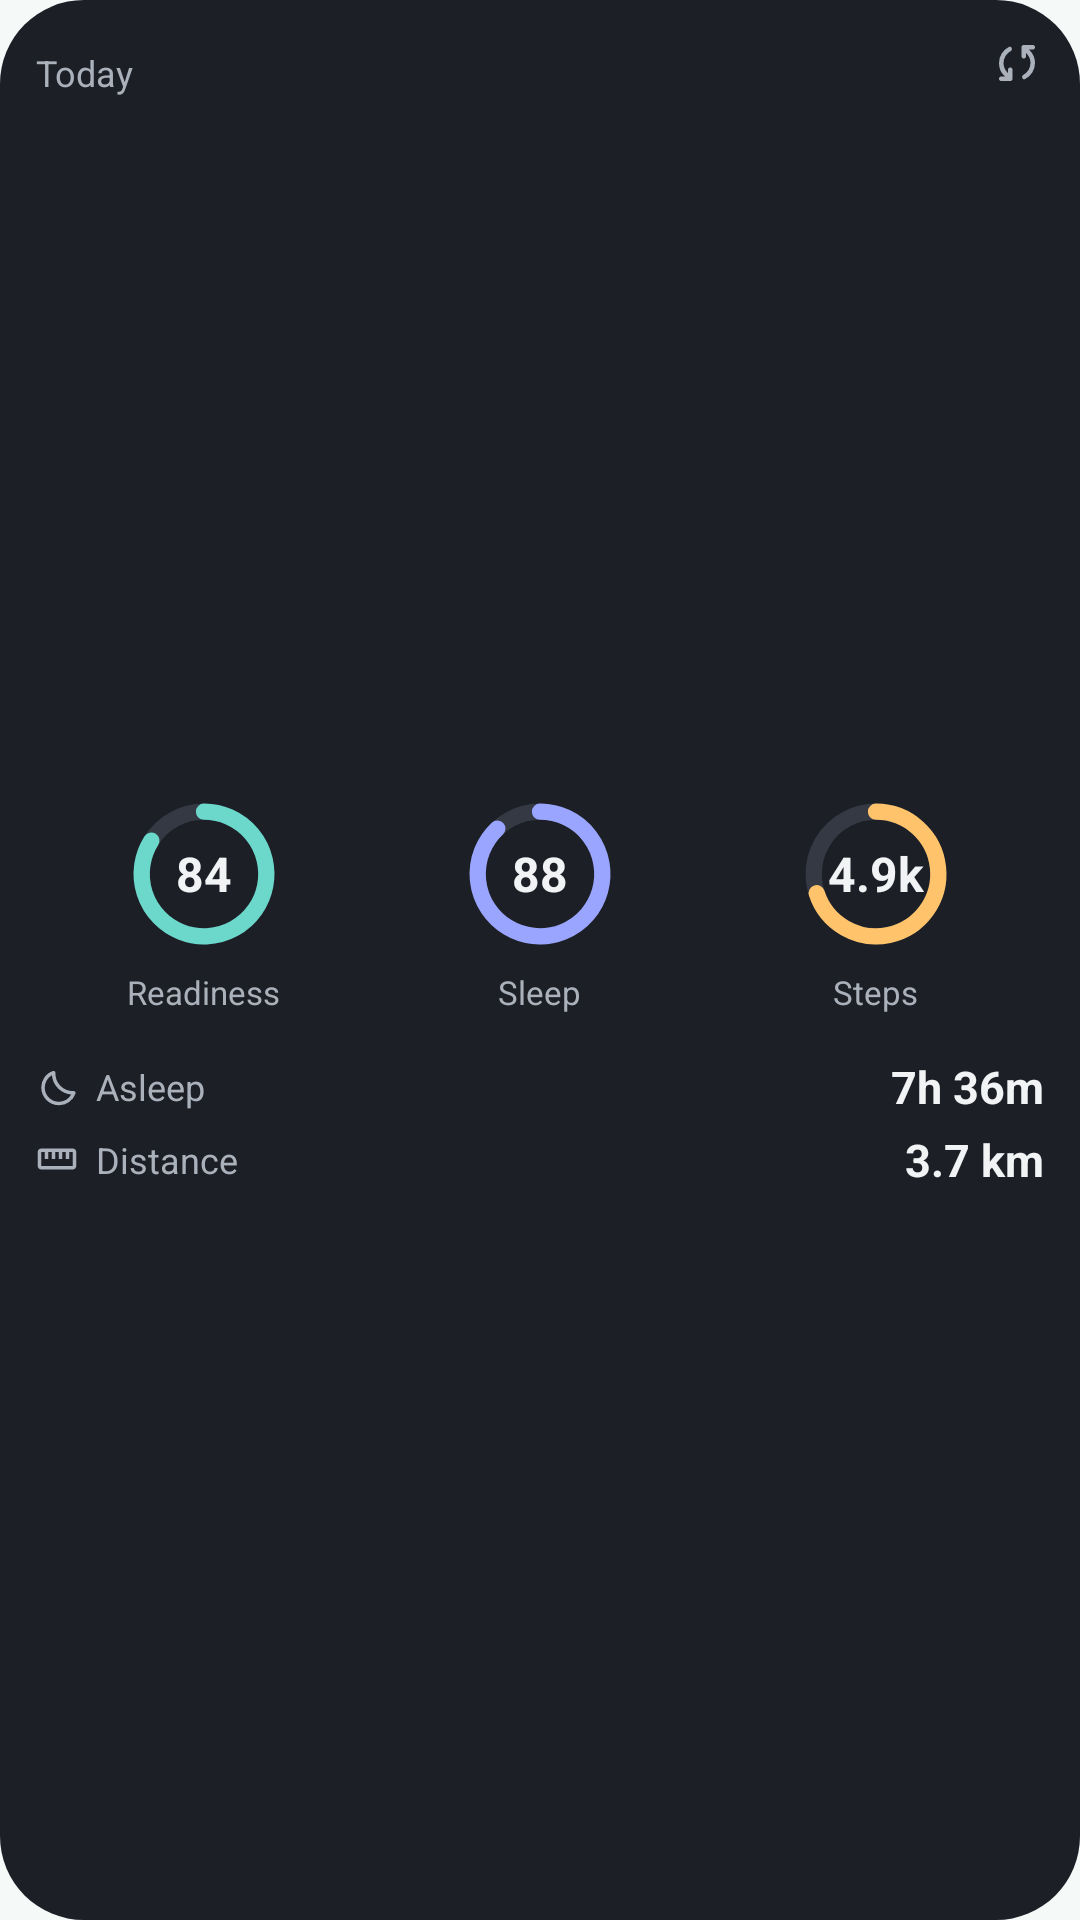

Point at icon controls on the screen. Image size 1080px×1920px, points as (x=x, y=y).
sym bedtime: (x=58, y=1088)
sym straighten: (x=57, y=1159)
sym sync: (x=1017, y=63)
